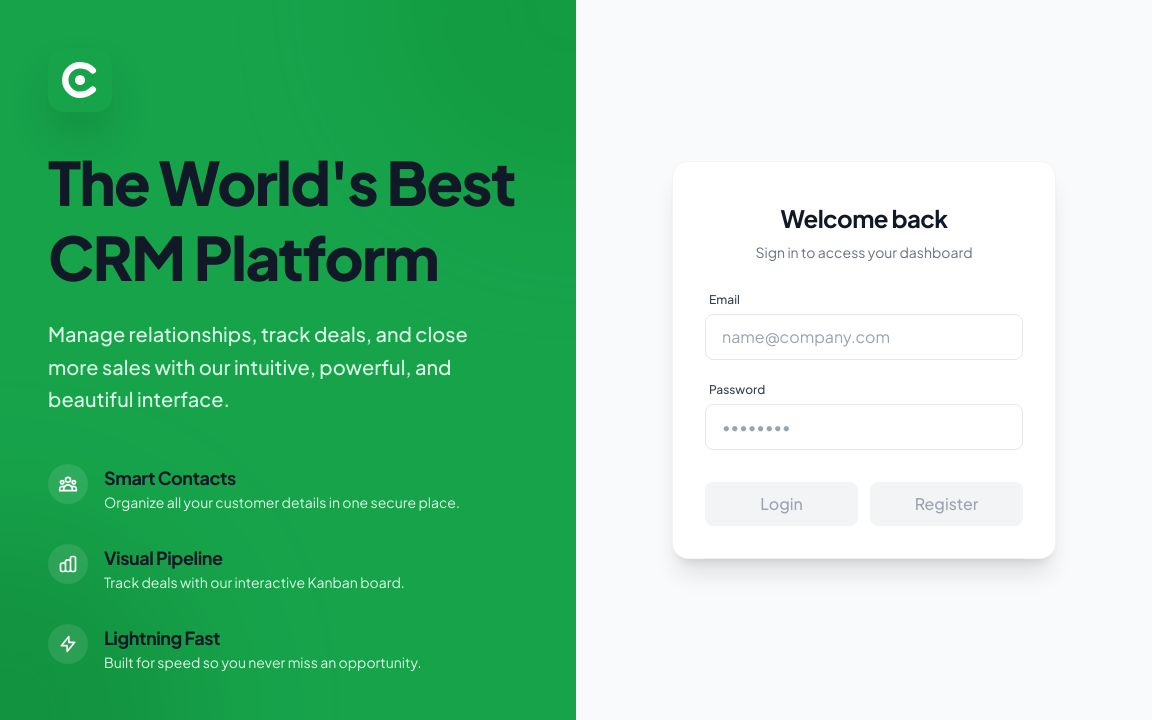
Test: Login validation UI › shows helper text for invalid email and password
In the field with placeholder "name@company.com": (864, 337) [705,314,1023,360], type "bad"
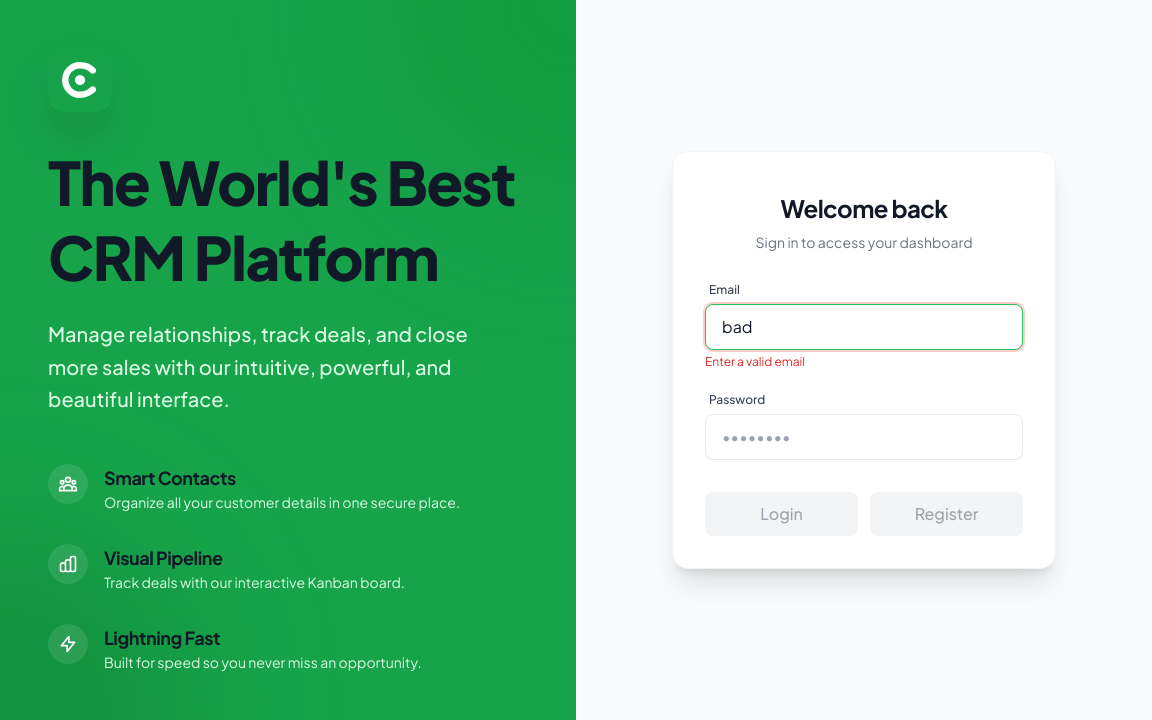
In the password field with placeholder "••••••••": (864, 437) [705,414,1023,460], type "123"
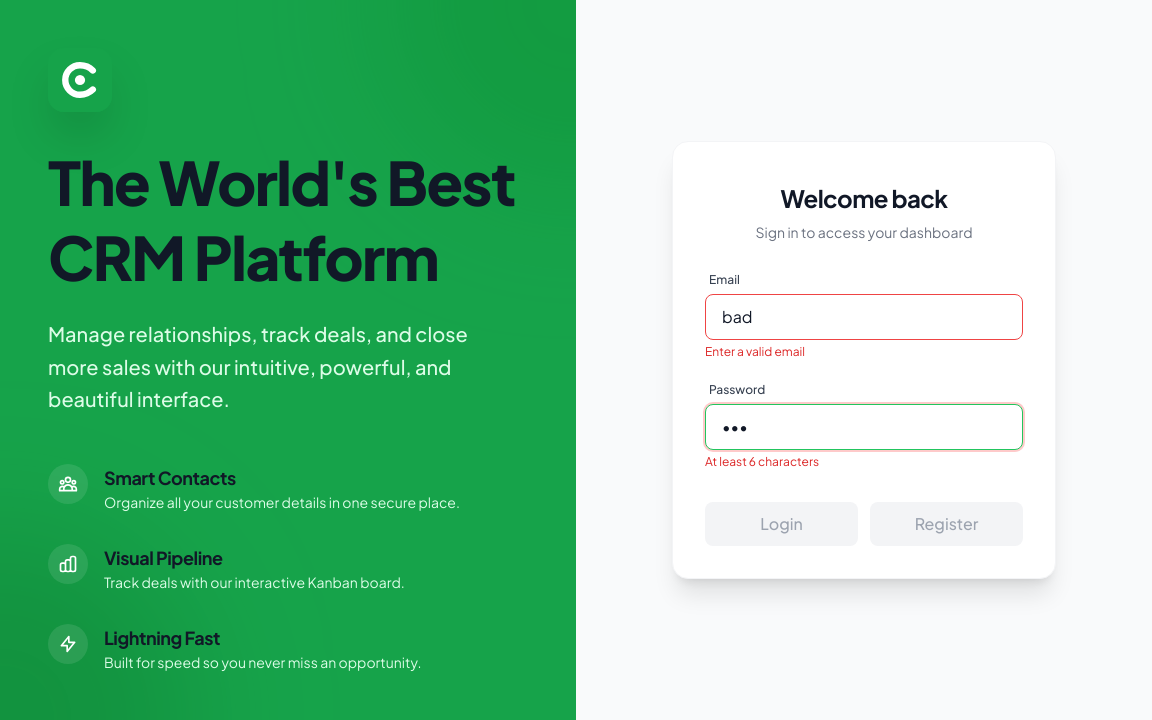
Result: the text "Enter a valid email" is shown at [705,344,805,359]
Result: the text "At least 6 characters" is shown at [705,454,819,469]
